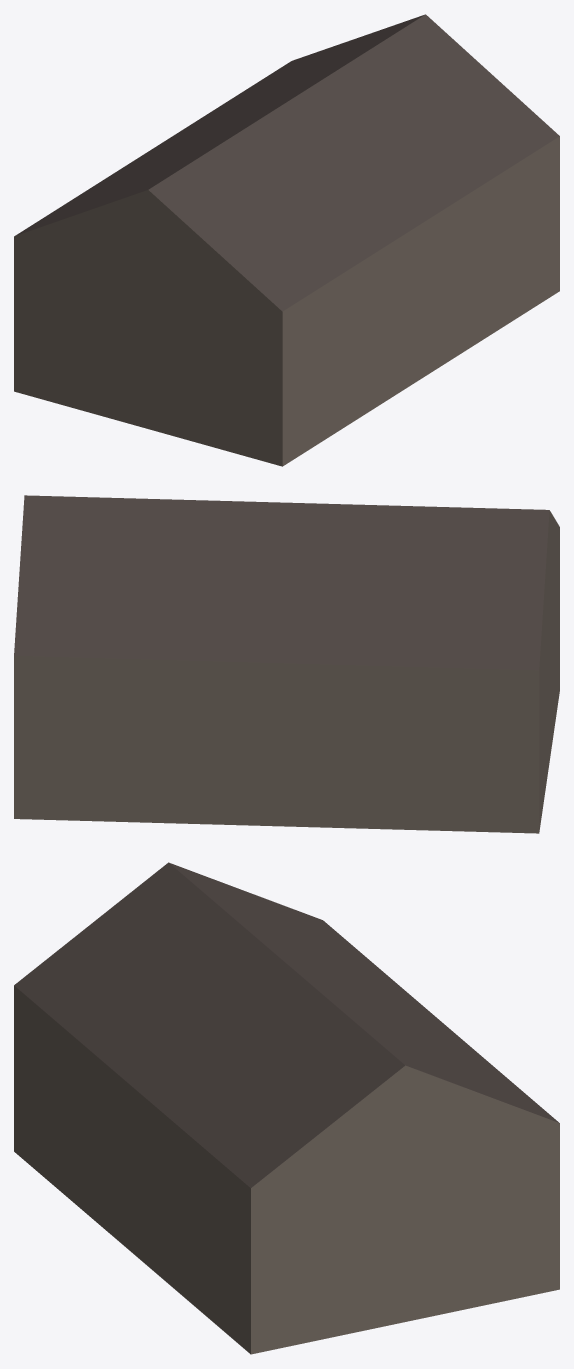
The picture shows the model from 3 angles, top to bottom: view 1: azimuth 30°, elevation 25°; view 2: azimuth 150°, elevation 25°; view 3: azimuth 270°, elevation 25°; orthographic projection. The views are drawn at different scales.
Visible parts, largest first — view 1: HP-w369317499; view 2: HP-w369317499; view 3: HP-w369317499.
Part boxes in pixels (x1,y1,x2,y2): HP-w369317499: (14,14,559,466); HP-w369317499: (14,495,559,833); HP-w369317499: (14,862,559,1354).
Bounding box in the file's own units: 20.75 × 9.26 × 17.86.
